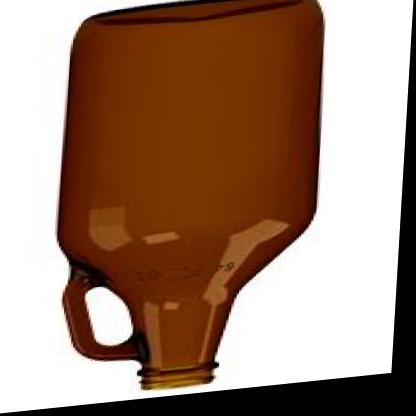trash: (58, 0, 322, 388), (84, 286, 133, 345)
